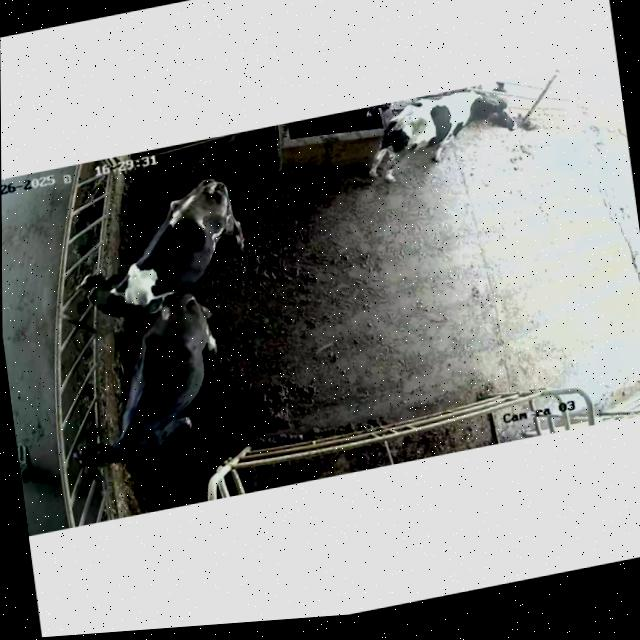stand: (53, 283, 234, 495), (62, 160, 257, 324), (356, 75, 529, 201)
